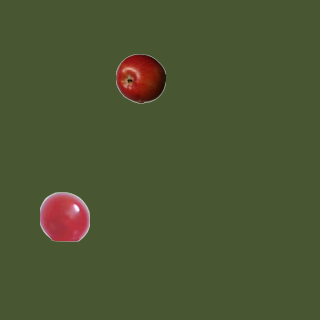Apple Braeburn: (115, 53, 165, 103)
Redcurrant: (39, 191, 89, 241)
